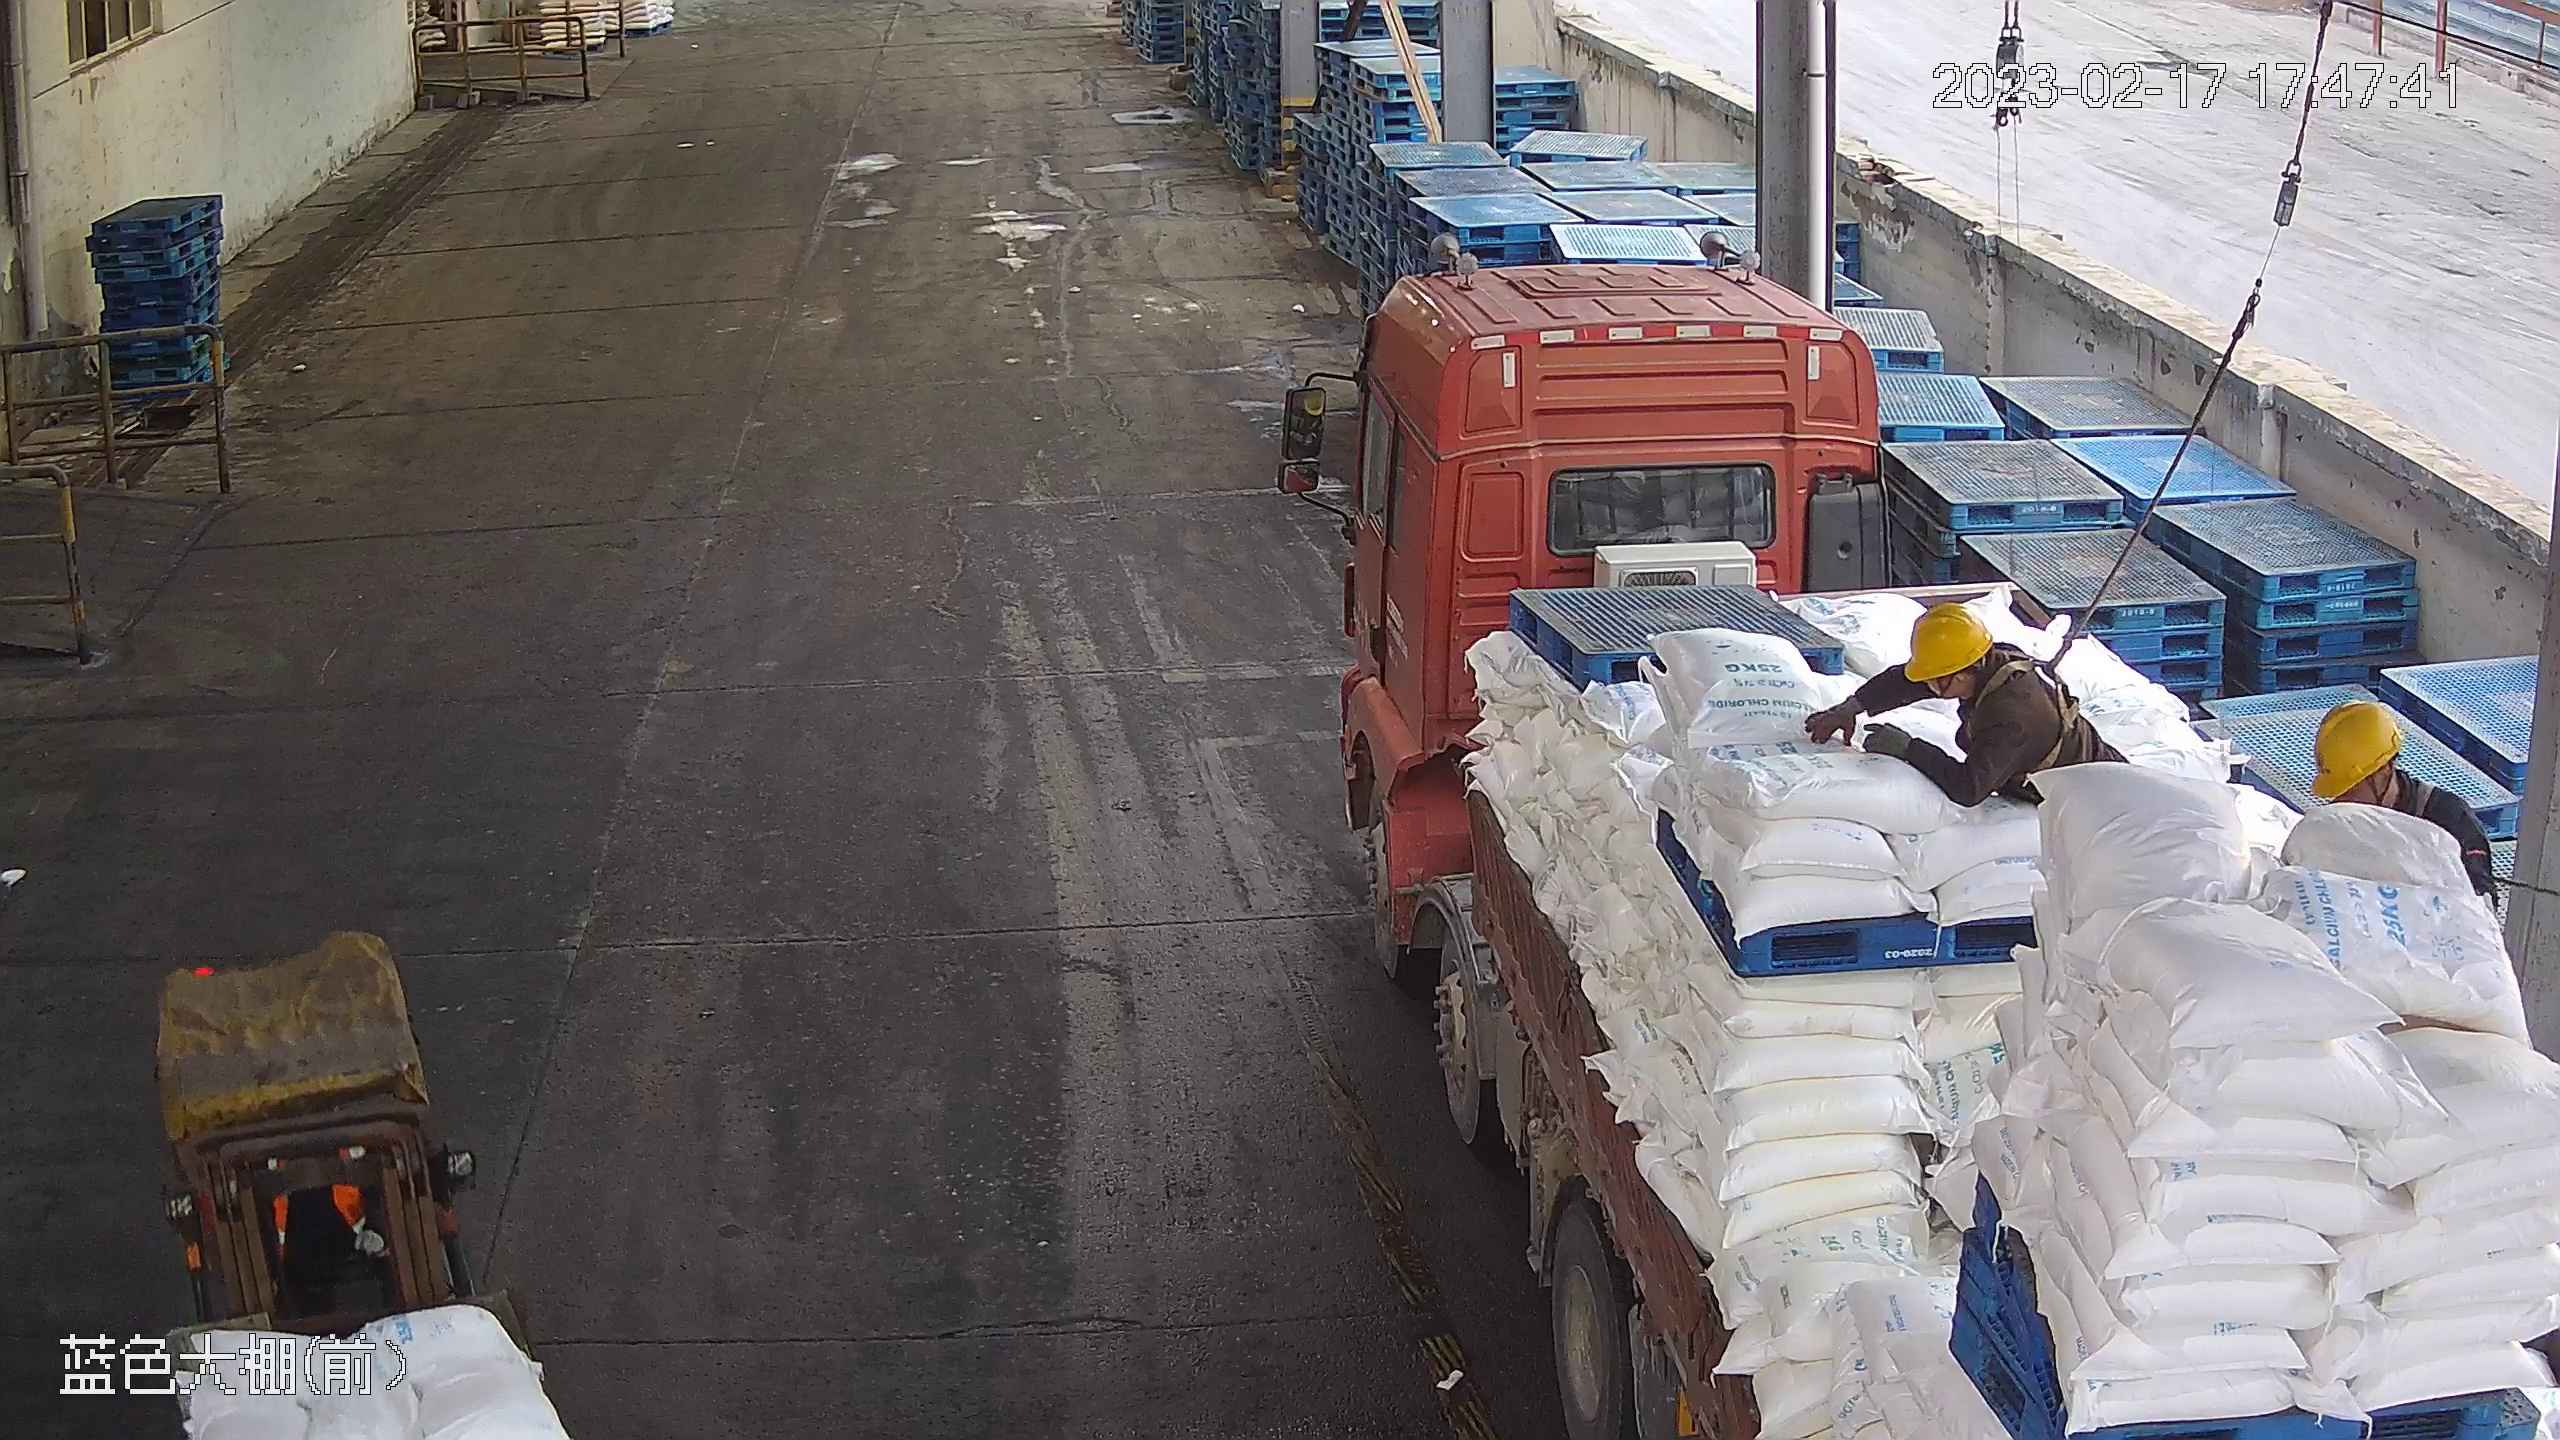belt: (1965, 641, 2090, 775), (2364, 774, 2434, 826)
head: (2304, 697, 2483, 833), (1896, 598, 2061, 732)
helmet: (2307, 696, 2404, 795), (1899, 599, 1995, 681)
truck: (1272, 258, 2558, 1440)
